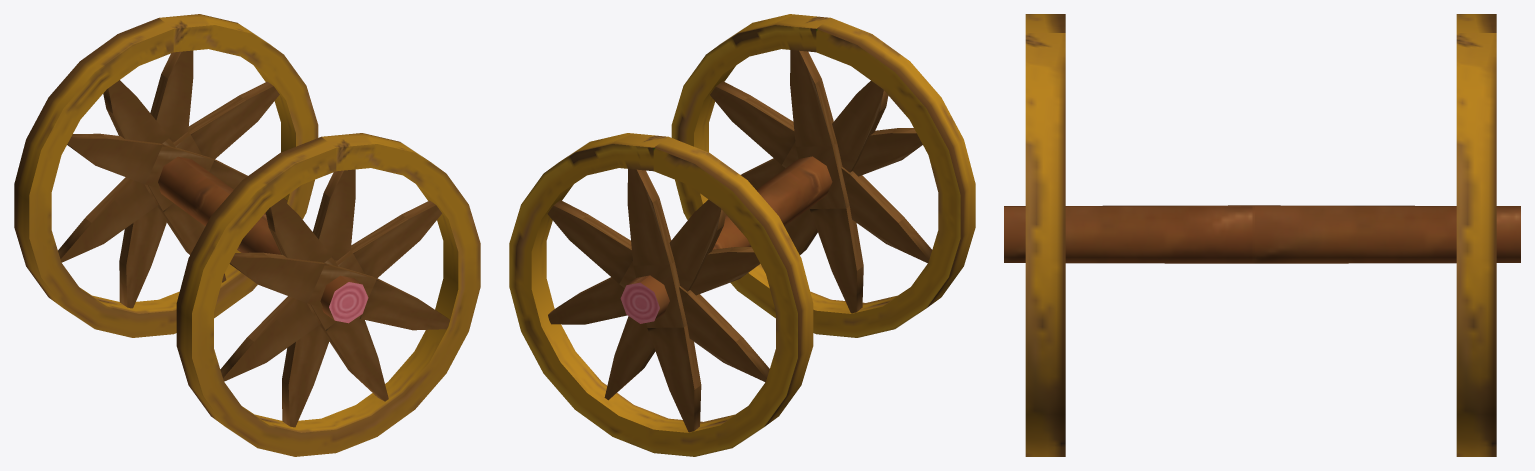
The model's file is wheel2.FBX.
3 renders of one model, left to right at view 1: azimuth 30°, elevation 25°; view 2: azimuth 150°, elevation 25°; view 3: azimuth 270°, elevation 25°, orthographic. The views are drawn at different scales.
Parts seen in each view (by area): view 1: Tube002; view 2: Tube002; view 3: Tube002.
Boxes of the visible parts, box(x1,y1,x2,y2) form: Tube002: box(14, 14, 480, 456); Tube002: box(509, 14, 975, 456); Tube002: box(1004, 14, 1520, 456).
Bounding box in the file's own units: 29.39 × 29.69 × 34.33.
